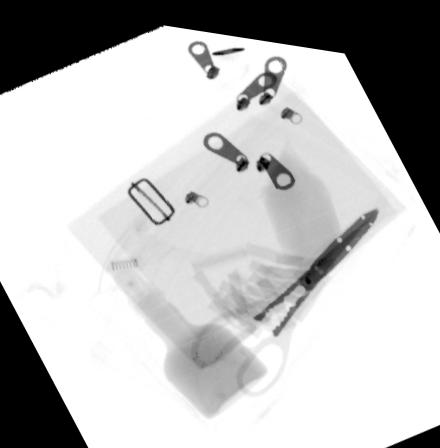Scissors: (185, 197, 376, 388)
